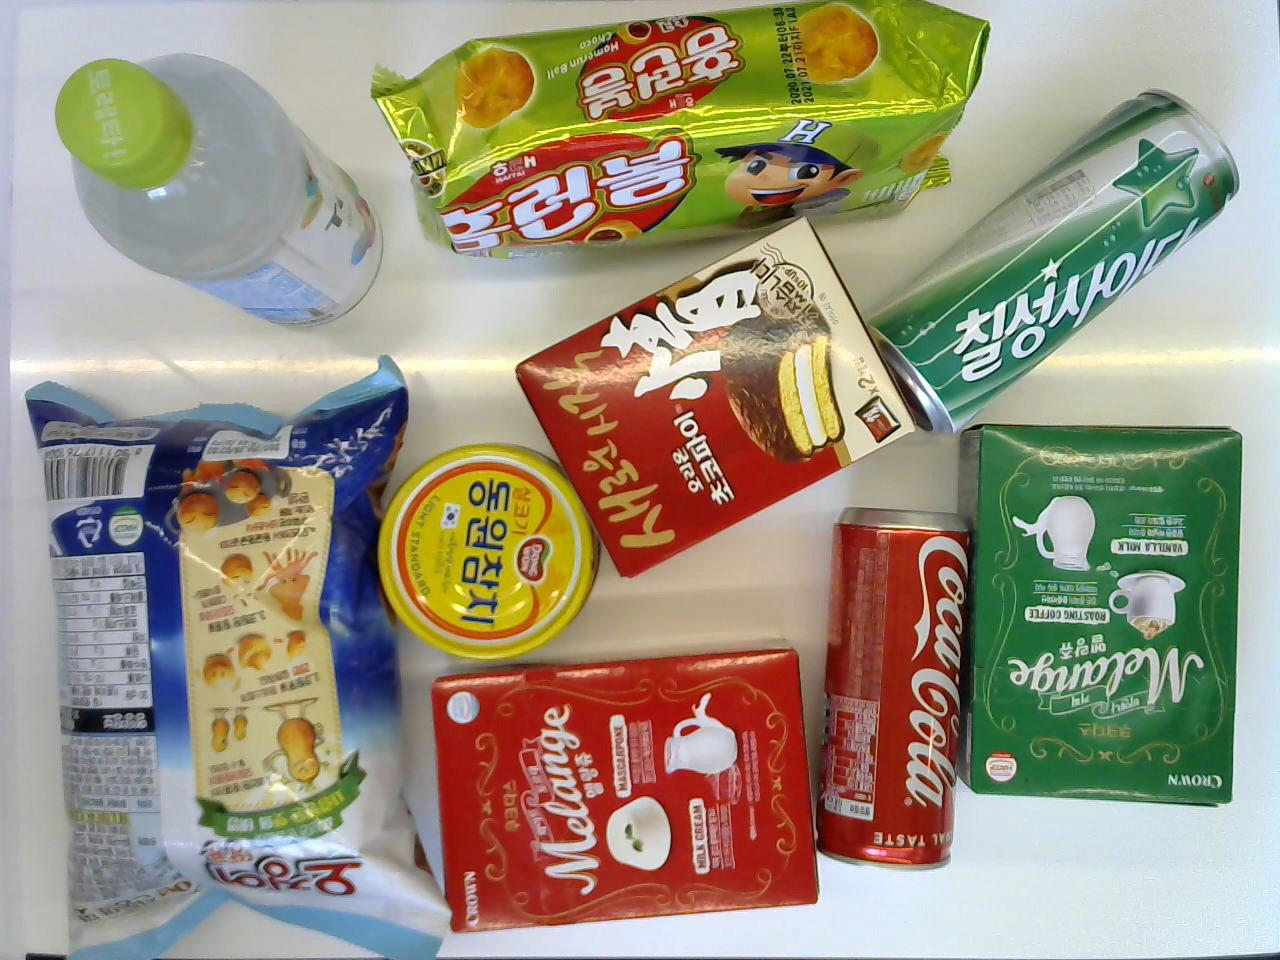chocopie: (506, 208, 921, 583)
cidar: (856, 83, 1238, 439)
coke: (811, 505, 974, 875)
couque_coffee: (957, 421, 1243, 814)
couque_white: (428, 640, 823, 930)
homerunball: (371, 0, 994, 265)
squid_peanut: (20, 351, 450, 960)
toreta: (51, 39, 382, 333)
tuna: (377, 434, 599, 659)
